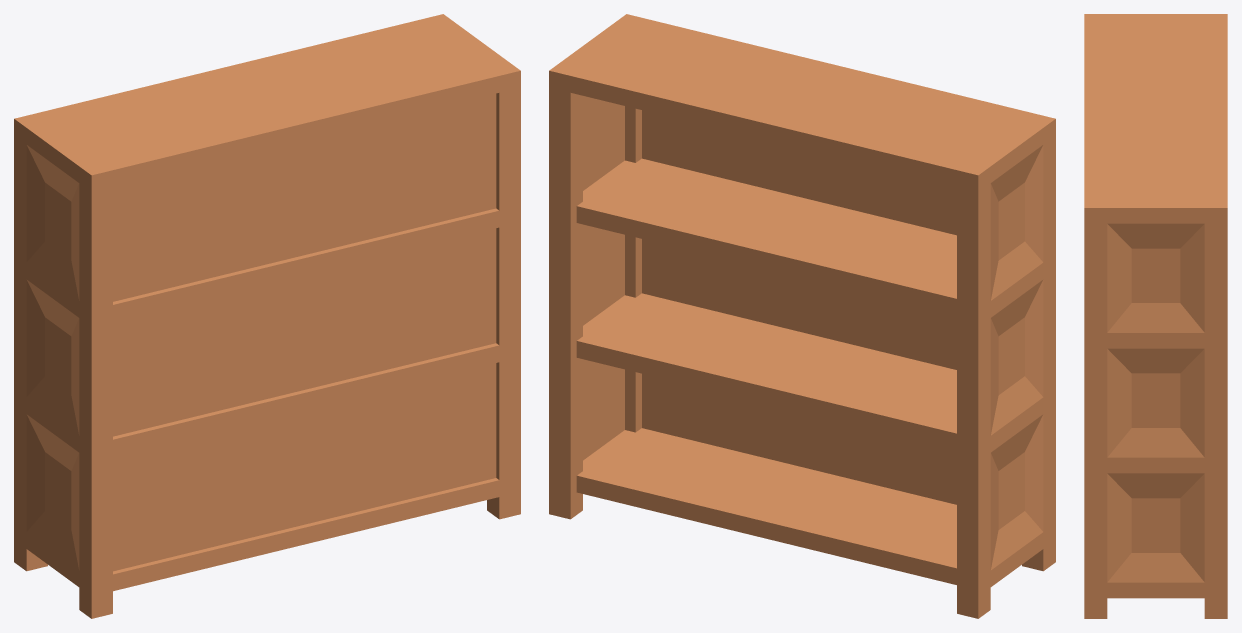
The model's file is bookcaseClosedWide.obj.
3 renders of one model, left to right at view 1: azimuth 30°, elevation 25°; view 2: azimuth 150°, elevation 25°; view 3: azimuth 270°, elevation 25°, orthographic. The views are drawn at different scales.
Parts seen in each view (by area): view 1: bookcaseClosedWide; view 2: bookcaseClosedWide; view 3: bookcaseClosedWide.
Part boxes in pixels (bbox=[...]): bookcaseClosedWide: bbox=[14, 14, 520, 618]; bookcaseClosedWide: bbox=[549, 14, 1055, 618]; bookcaseClosedWide: bbox=[1084, 14, 1227, 618].
Size of the model in its own units: 0.8 by 0.79 by 0.25.
